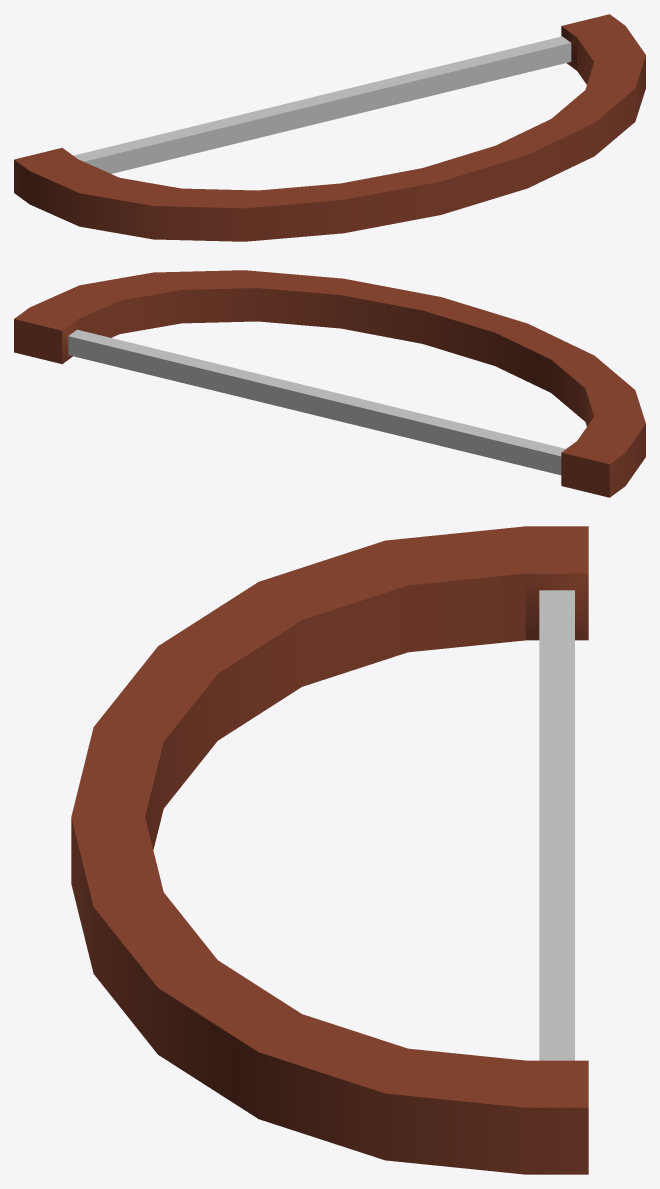
Rendered from Bow_Proto_Prop.fbx.
3 views of the same model, one above another, from view 1: azimuth 30°, elevation 25°; view 2: azimuth 150°, elevation 25°; view 3: azimuth 270°, elevation 25° (orthographic). The views are drawn at different scales.
Visible parts, largest first — view 1: pTorus1; view 2: pTorus1; view 3: pTorus1.
Part boxes in pixels (left/top/right/bottom): pTorus1: left=14, top=14, right=645, bottom=241; pTorus1: left=14, top=270, right=645, bottom=497; pTorus1: left=71, top=526, right=588, bottom=1174.
Size of the model in its own units: 6.59 by 0.3536 by 2.48.
